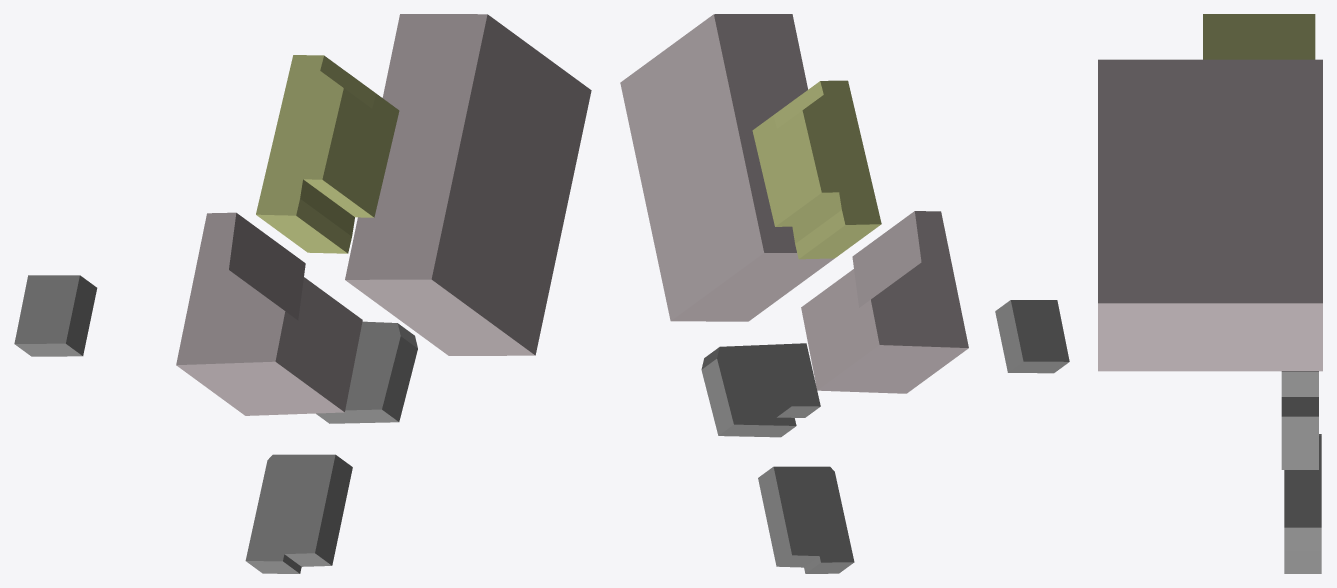
3 renders of one model, left to right at view 1: azimuth 30°, elevation 25°; view 2: azimuth 150°, elevation 25°; view 3: azimuth 270°, elevation 25°, orthographic. The views are drawn at different scales.
Visible parts, largest first — view 1: 0_1_0_1_3_3_3_2_3; view 2: 0_1_0_1_3_3_3_2_3; view 3: 0_1_0_1_3_3_3_2_3.
Part boxes in pixels (x1,y1,x2,y2): 0_1_0_1_3_3_3_2_3: [14, 14, 591, 573]; 0_1_0_1_3_3_3_2_3: [620, 14, 1069, 573]; 0_1_0_1_3_3_3_2_3: [1098, 14, 1322, 573].
Size of the model in its own units: 47.73 by 49.45 by 18.
